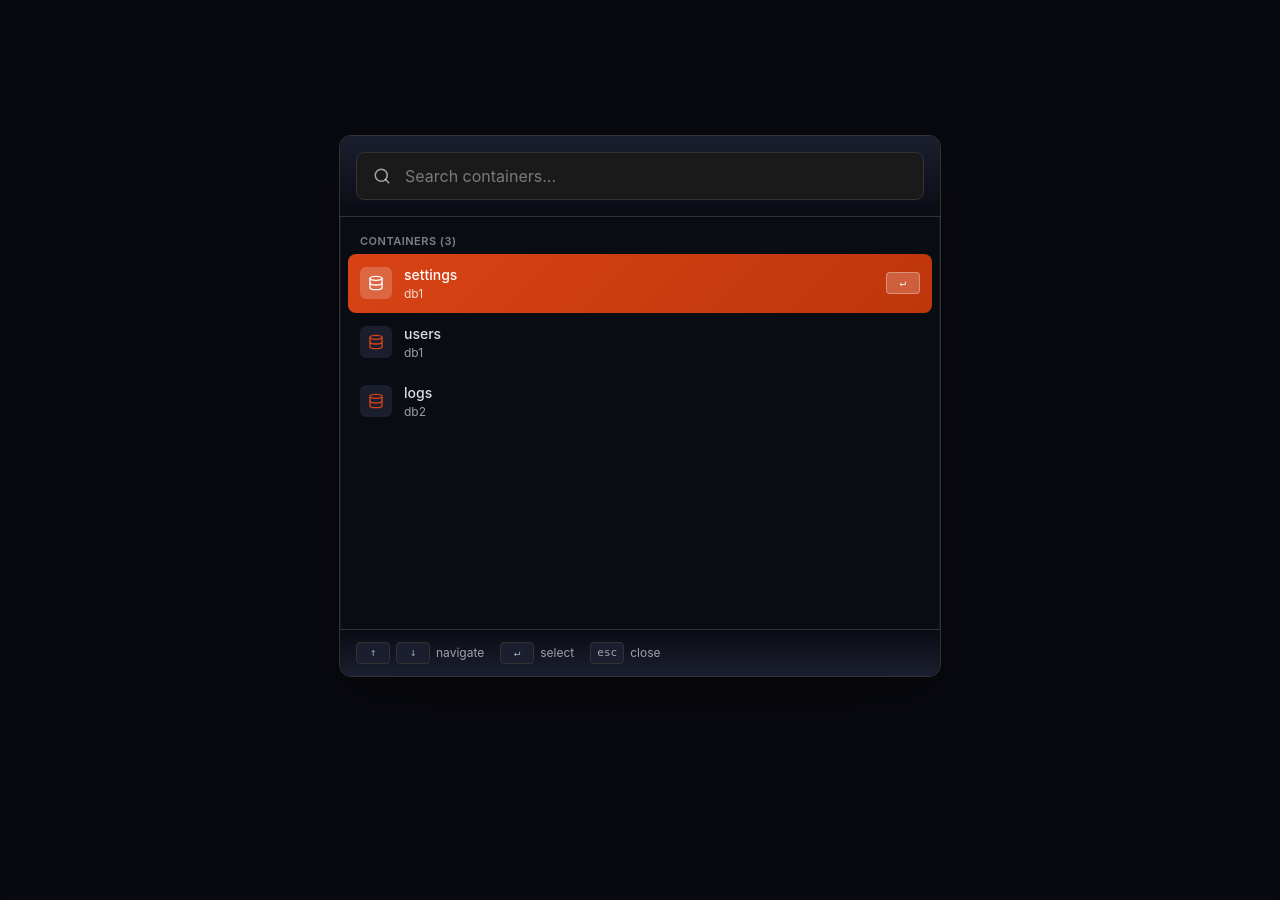
CommandPalette › filters containers based on search input
Type "set" into the field with placeholder "Search containers...".
click(655, 176); type("set")  # box [403,165,907,187]
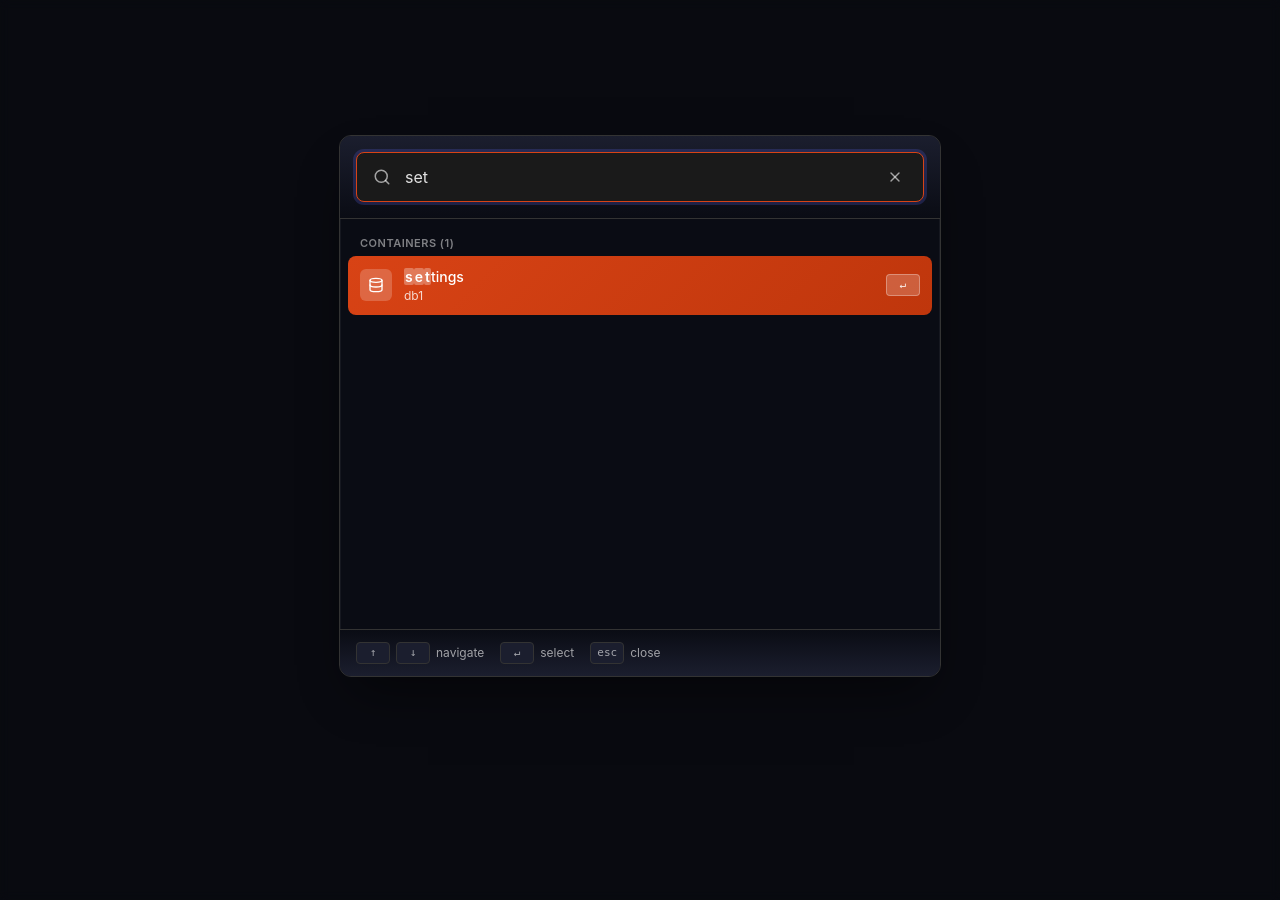
Expected: the option shows "settings", [348,256,932,314]
Now the number of options is 1, box [348,256,932,314]
